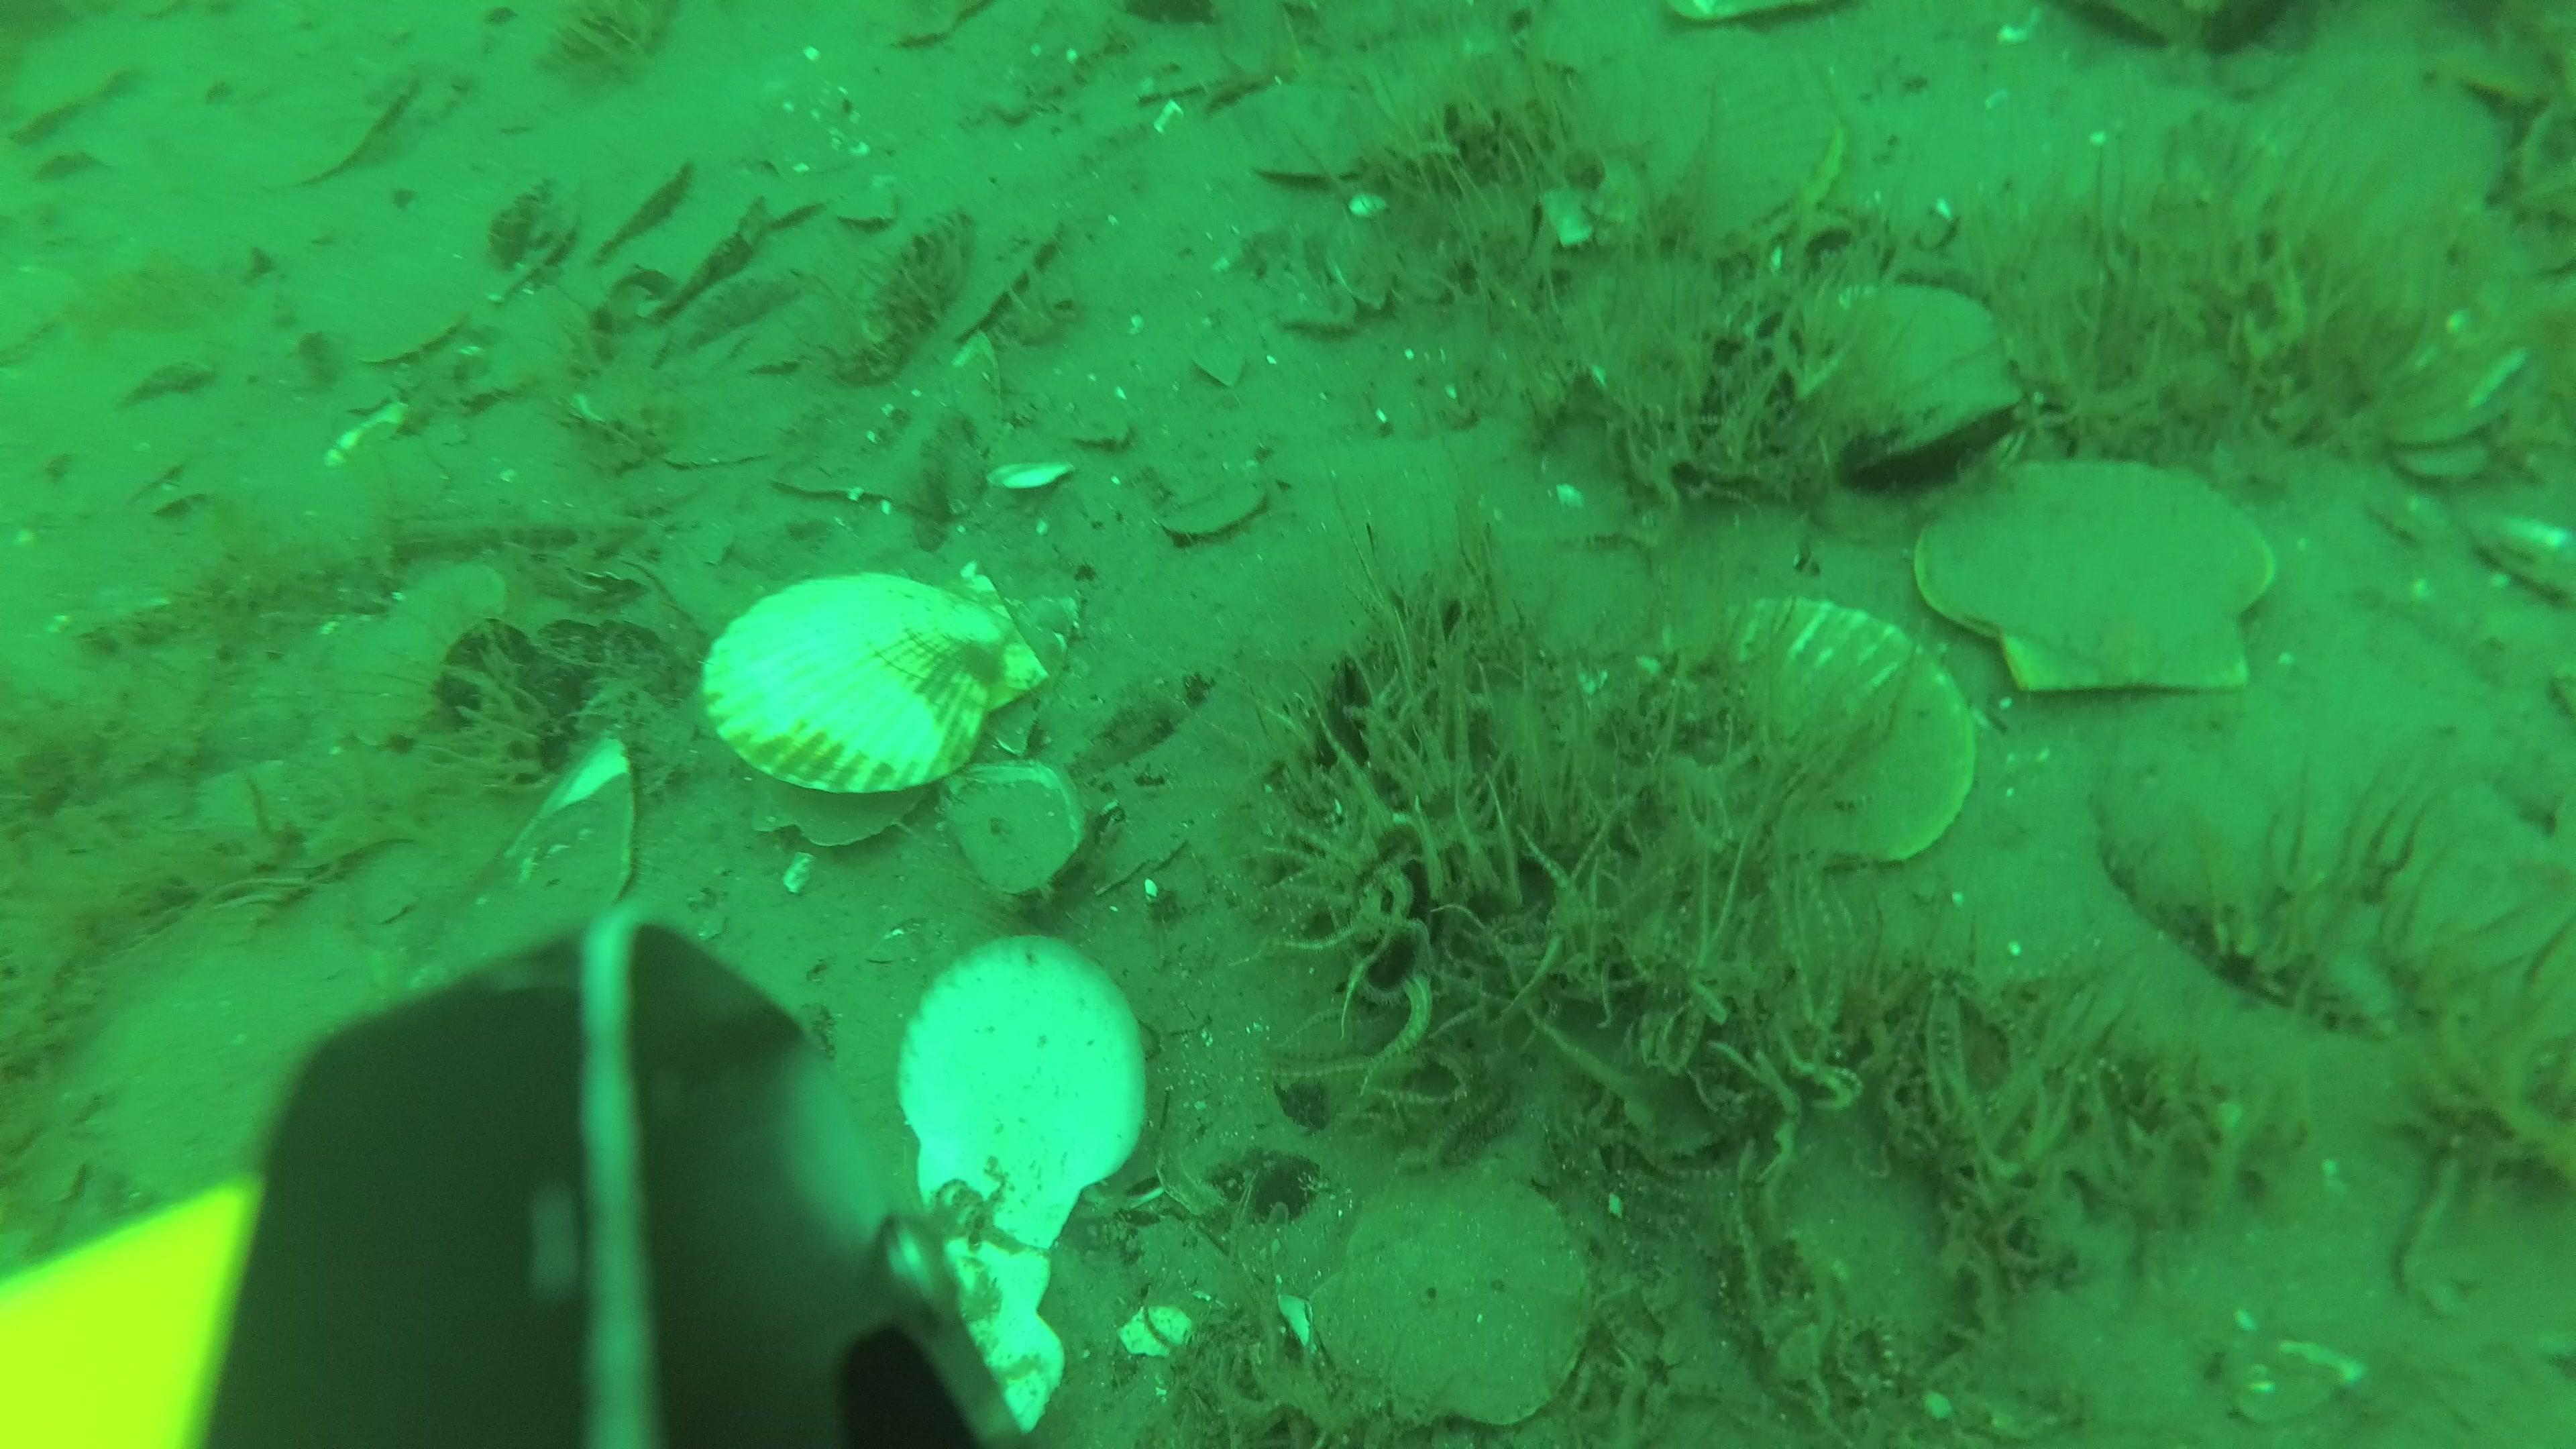scallop: (1913, 449, 2268, 708), (1645, 607, 1982, 879), (701, 568, 1049, 819), (879, 950, 1157, 1246), (1307, 1164, 1601, 1435), (1560, 34, 1854, 265), (1757, 280, 2029, 469), (2258, 67, 2507, 258), (1161, 488, 1274, 548)
